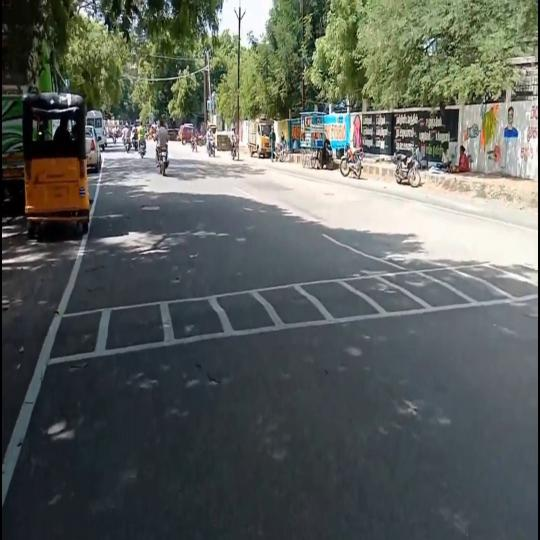Speed Bump: (49, 262, 538, 360)
